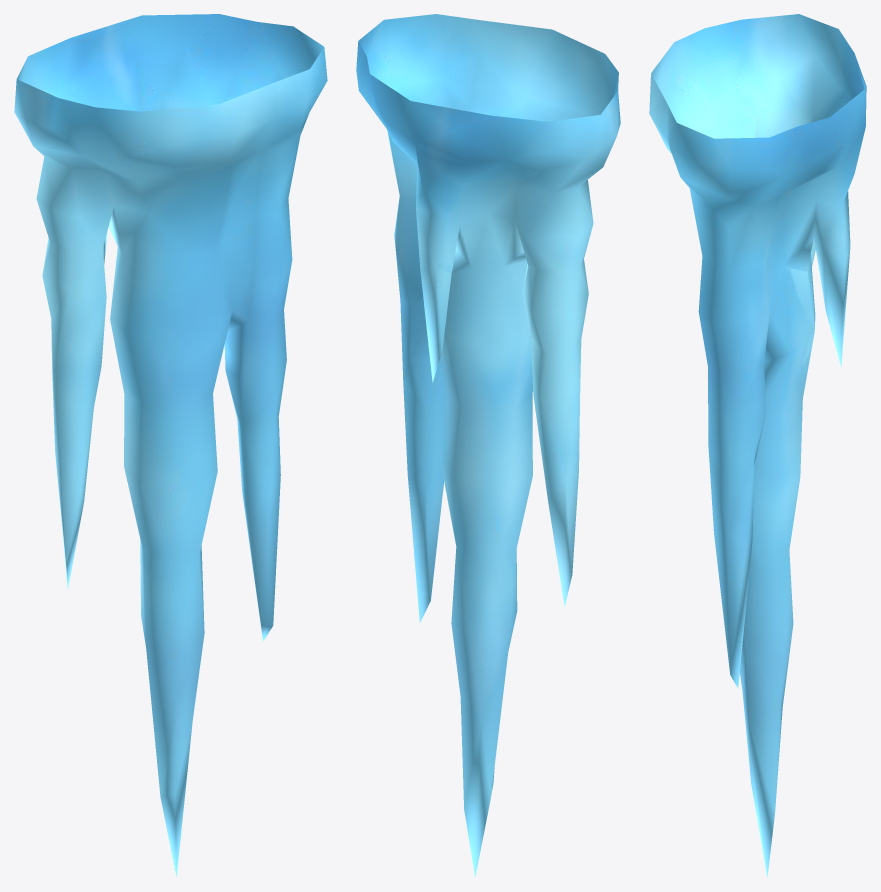
The model's file is SM_Icicle_Cluster_3.glb.
3 views of the same model, side by side, from view 1: azimuth 30°, elevation 25°; view 2: azimuth 150°, elevation 25°; view 3: azimuth 270°, elevation 25° (orthographic). The views are drawn at different scales.
Visible parts, largest first — view 1: SM_Icicle_Cluster_3; view 2: SM_Icicle_Cluster_3; view 3: SM_Icicle_Cluster_3.
Part boxes in pixels (x1=…): SM_Icicle_Cluster_3: x1=14, y1=14, x2=327, y2=876; SM_Icicle_Cluster_3: x1=356, y1=14, x2=620, y2=876; SM_Icicle_Cluster_3: x1=649, y1=14, x2=866, y2=877.
Size of the model in its own units: 0.7112 by 2.05 by 0.5058.
Materials: 1 (1 with a texture image).
